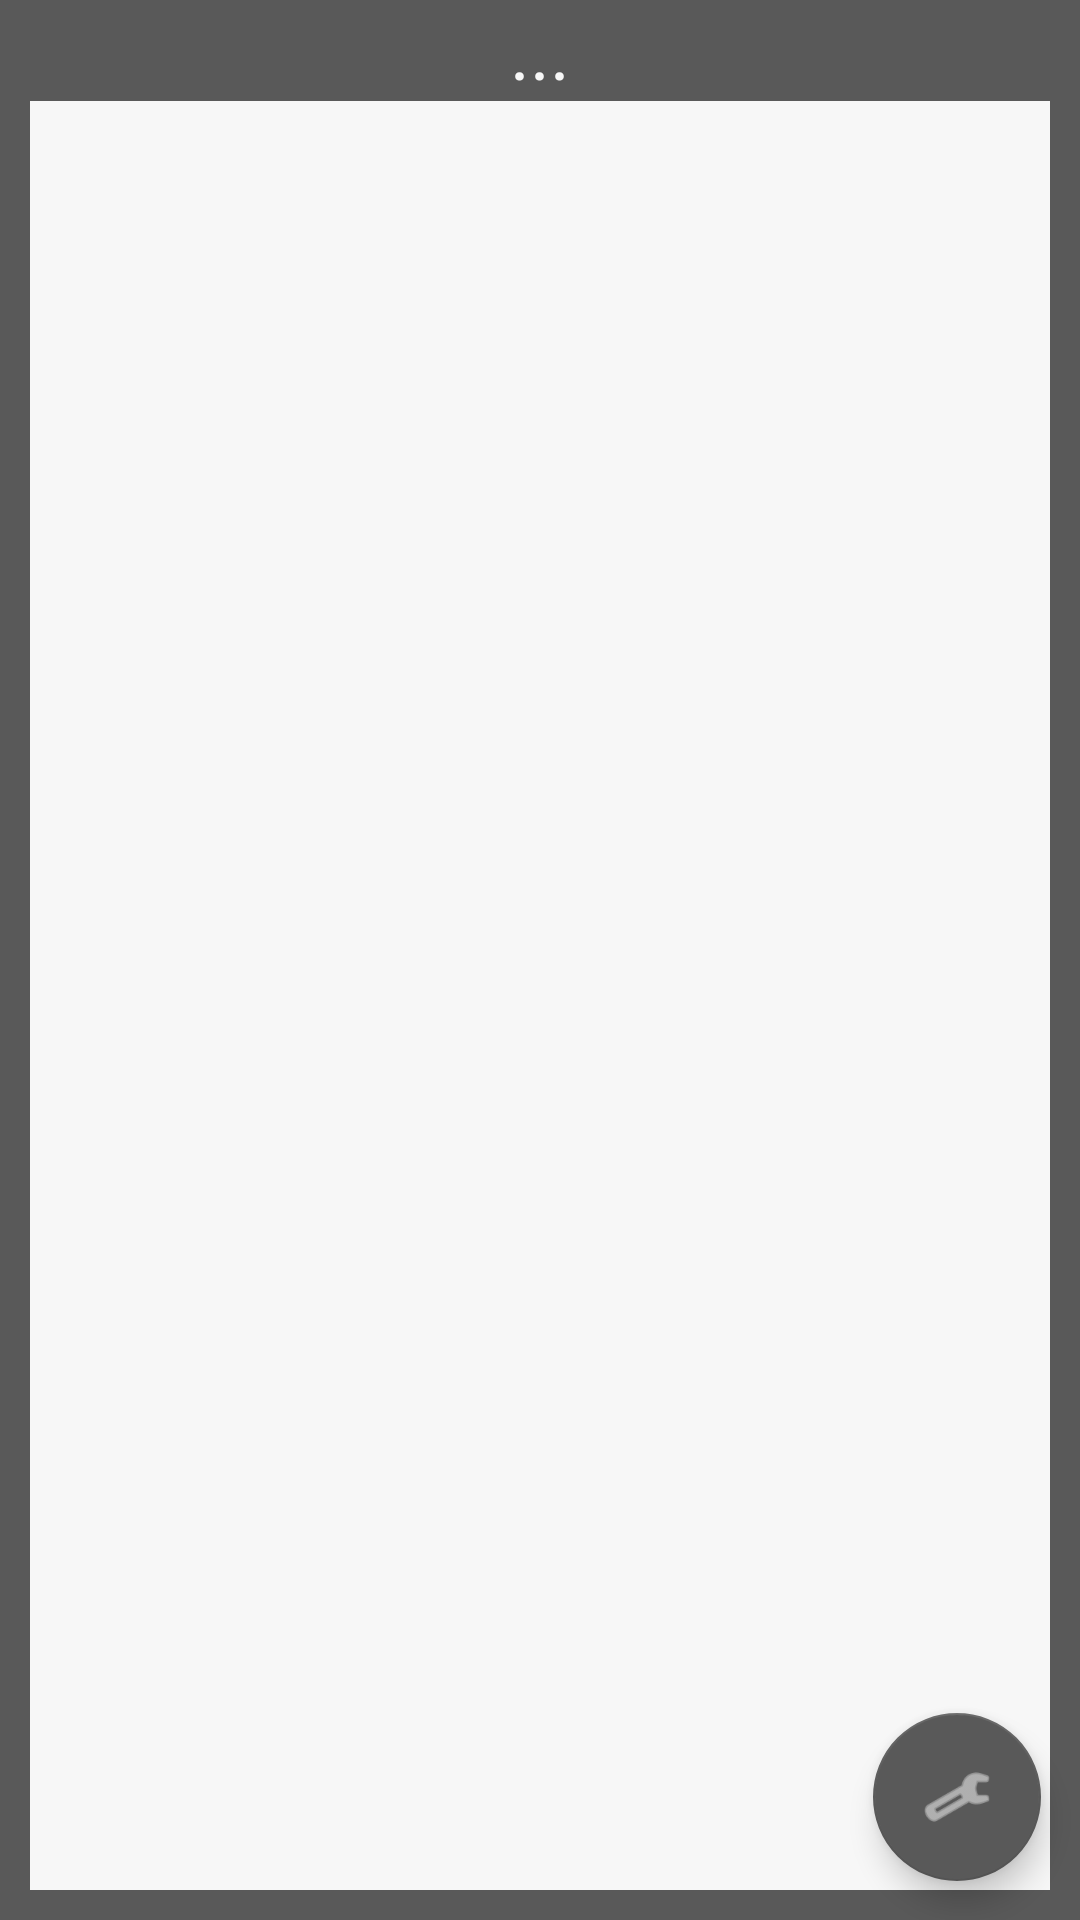

Screen size 1080 x 1920. Icon name, then its box in pixels as (left=x1, top=y1, right=x2, bottom=y2):
manage: (left=873, top=1713, right=1041, bottom=1881)
